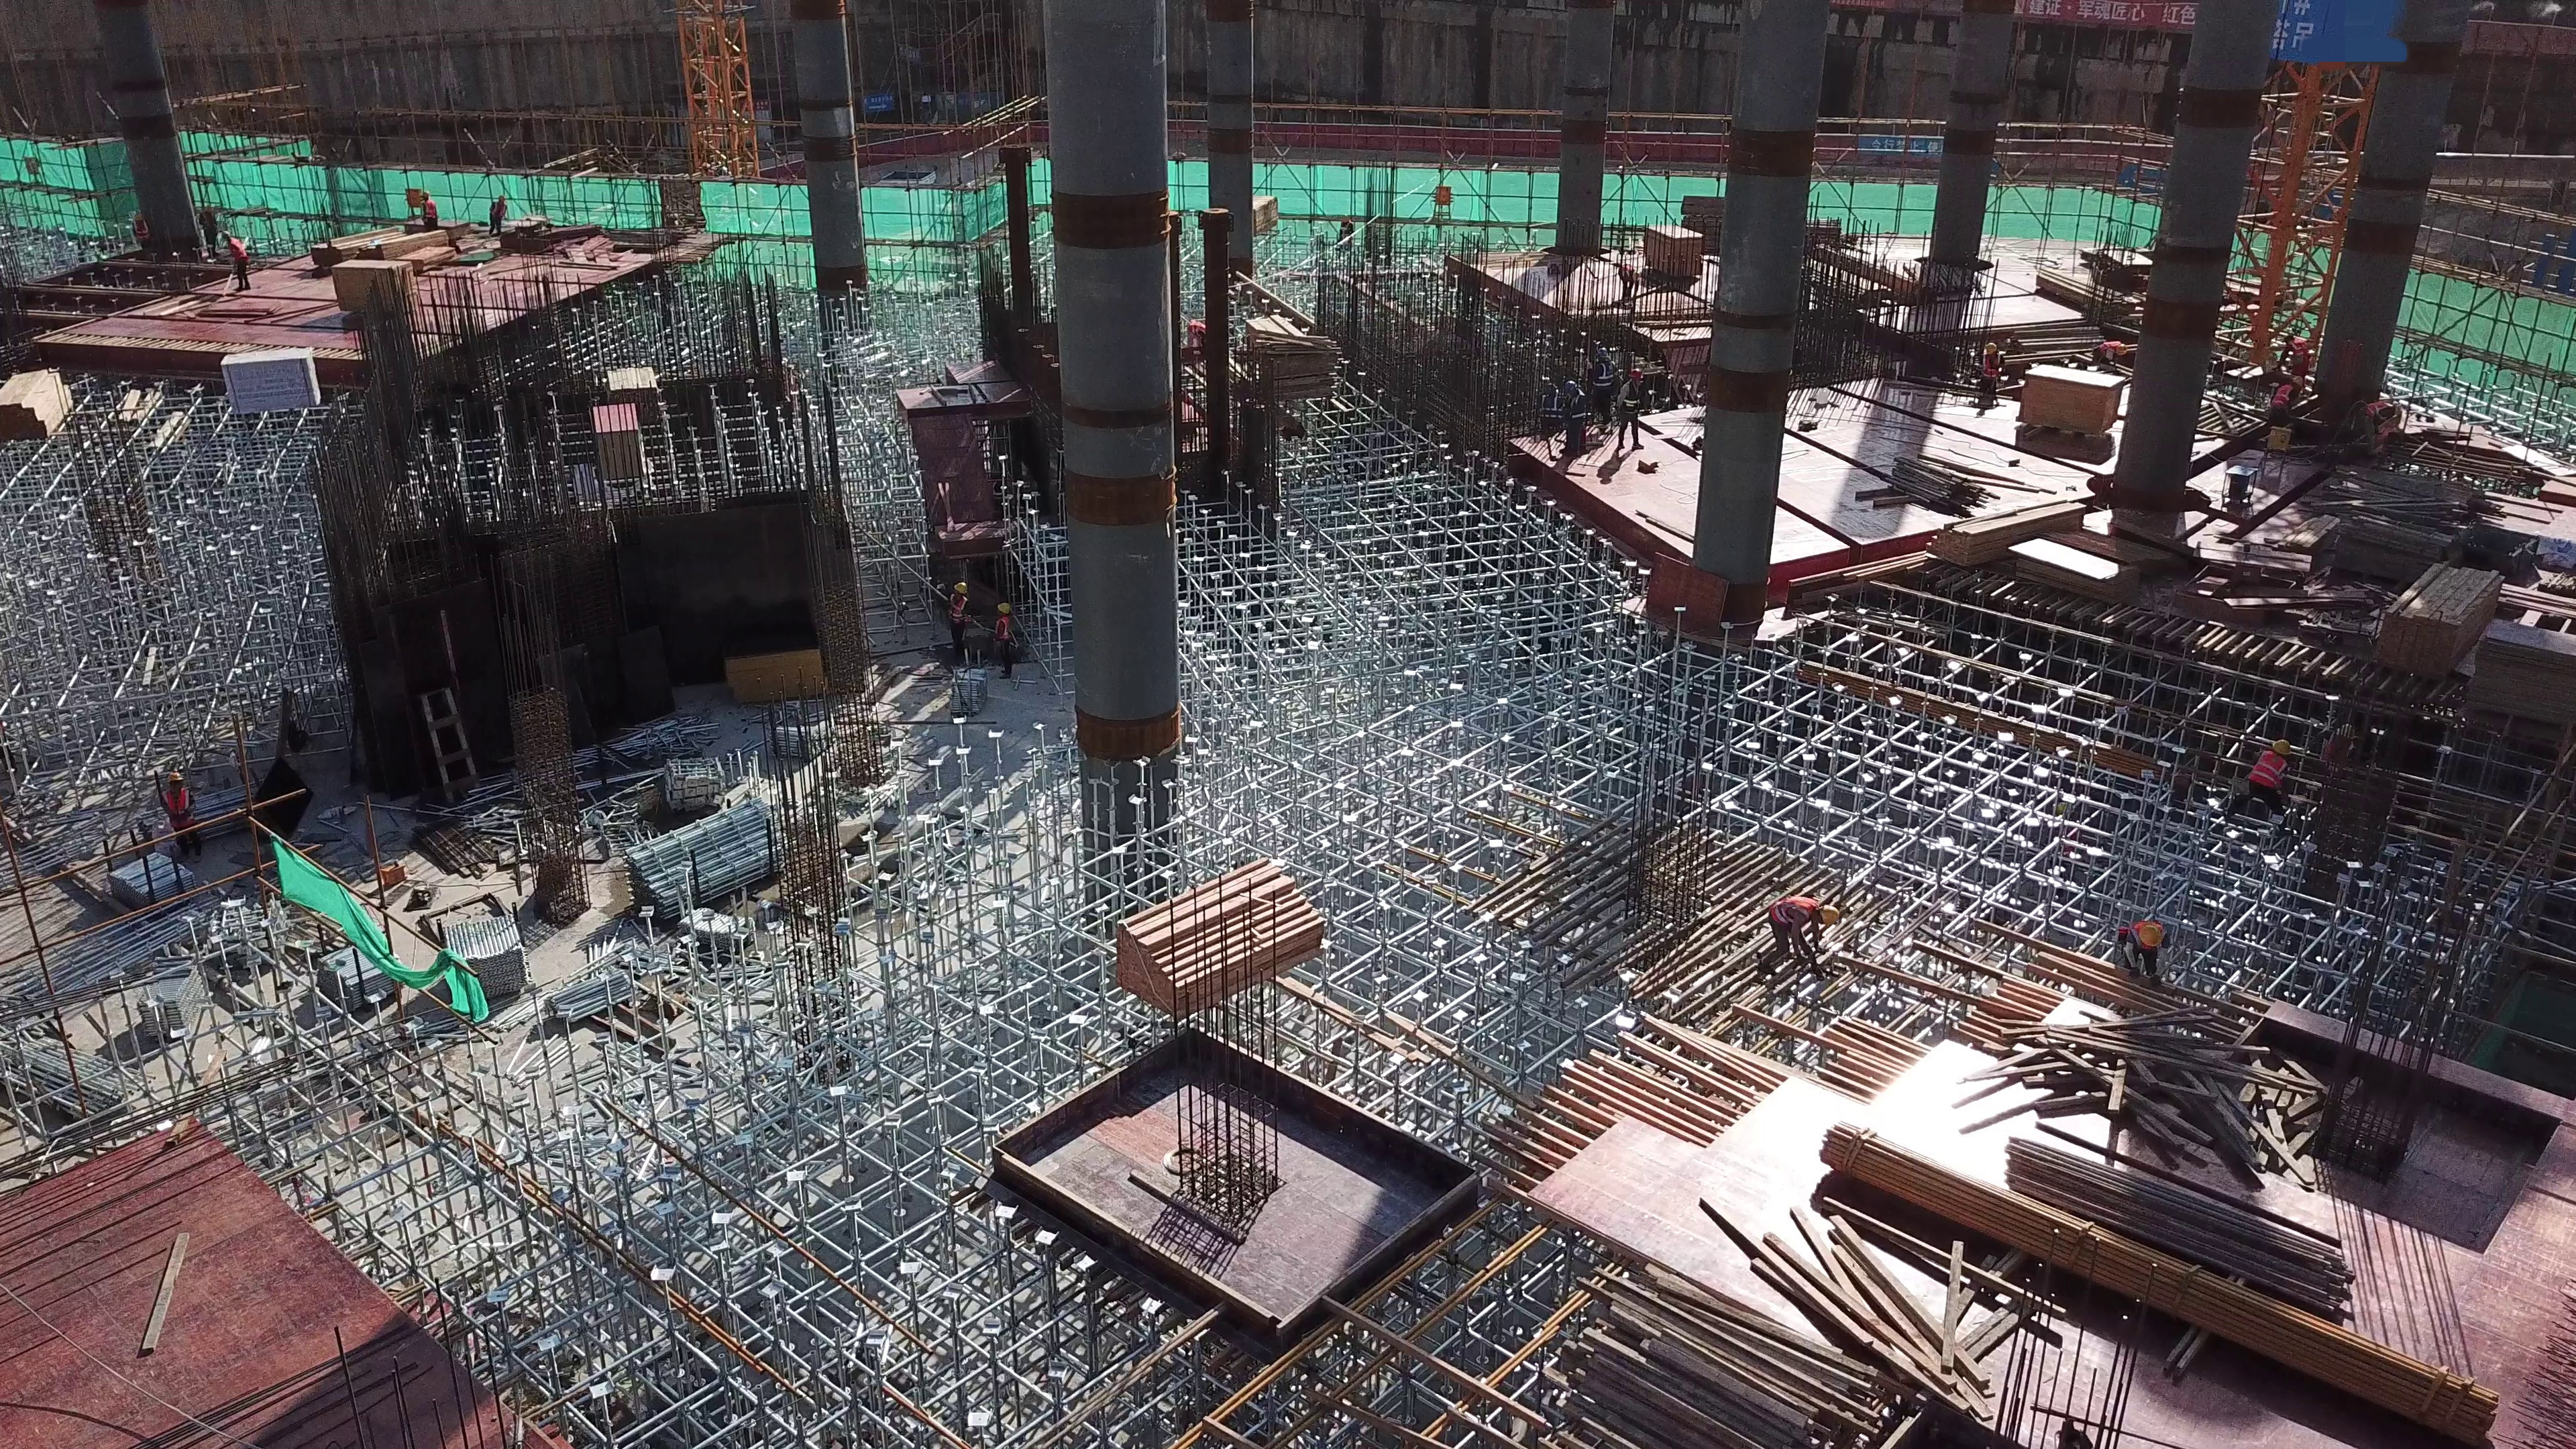board: (593, 402, 636, 469)
helmet: (2139, 924, 2158, 945), (1819, 907, 1837, 929), (2269, 741, 2292, 754), (2338, 725, 2351, 741), (952, 580, 968, 594), (1982, 343, 1997, 356), (1000, 602, 1010, 616), (168, 773, 184, 782), (1596, 348, 1610, 358), (1564, 382, 1574, 390), (1629, 369, 1642, 377)
person: (1754, 894, 1847, 975), (2227, 741, 2296, 832), (2112, 912, 2184, 991), (150, 775, 201, 867), (989, 602, 1021, 685), (1615, 368, 1645, 452), (217, 227, 252, 292), (1587, 347, 1613, 425), (2268, 378, 2304, 434), (1975, 346, 2006, 403), (947, 584, 971, 656), (1562, 382, 1587, 455), (1538, 380, 1562, 435), (2282, 335, 2309, 384), (2086, 338, 2123, 370), (484, 195, 510, 239), (129, 211, 152, 254), (418, 191, 440, 230)
scaffold: (641, 801, 792, 897), (436, 913, 528, 1000), (318, 934, 408, 1009), (108, 849, 196, 919), (141, 964, 212, 1046), (553, 968, 636, 1027), (945, 667, 994, 723), (767, 714, 824, 758)
slogan: (2012, 1, 2212, 42)
vest: (1768, 891, 1813, 926), (159, 786, 190, 830), (2248, 751, 2284, 789), (1538, 396, 1560, 427), (1592, 364, 1615, 393), (943, 596, 964, 626), (1621, 380, 1640, 412), (226, 239, 250, 266), (2271, 385, 2289, 411), (2289, 338, 2304, 370), (1980, 356, 1997, 380), (992, 618, 1010, 642), (1570, 390, 1585, 417), (492, 202, 508, 226), (131, 221, 147, 244), (423, 201, 435, 220)
wood: (1805, 1108, 2514, 1449), (1587, 1281, 1858, 1449), (2028, 1017, 2257, 1151), (1102, 866, 1314, 998), (2382, 574, 2498, 691), (2332, 478, 2464, 577), (1, 370, 81, 447)
